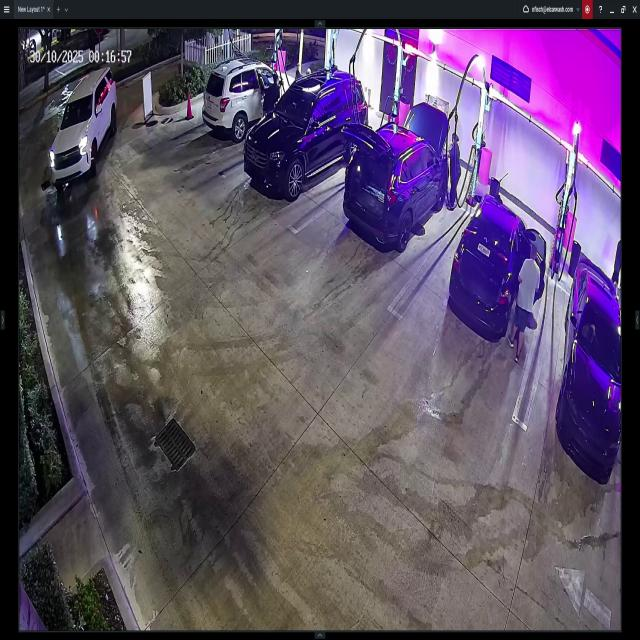Car: (239, 72, 365, 193), (344, 104, 450, 246), (557, 252, 622, 476), (449, 193, 547, 339), (204, 52, 298, 144), (46, 66, 120, 182)
